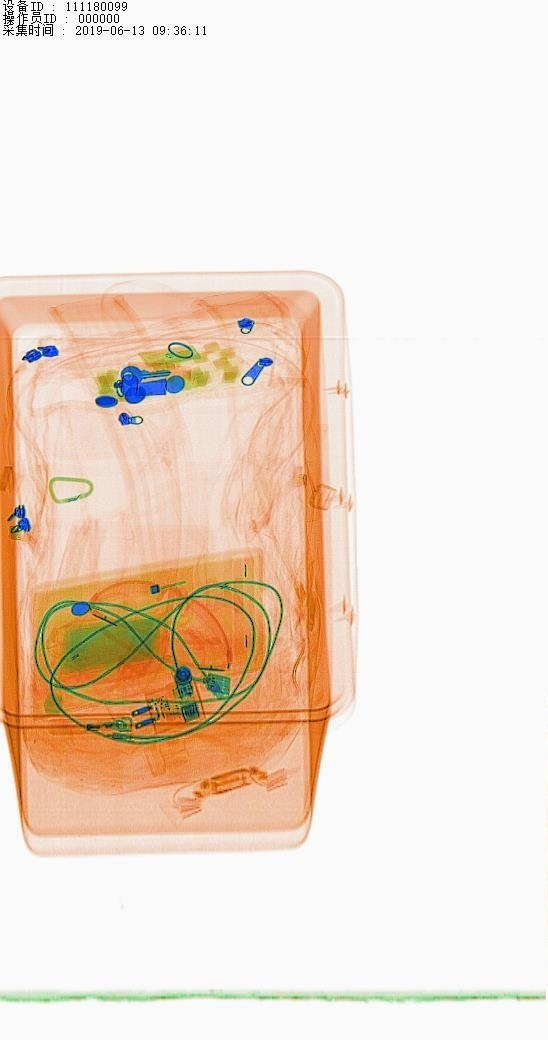NonmetallicFire: (47, 712, 153, 746)
